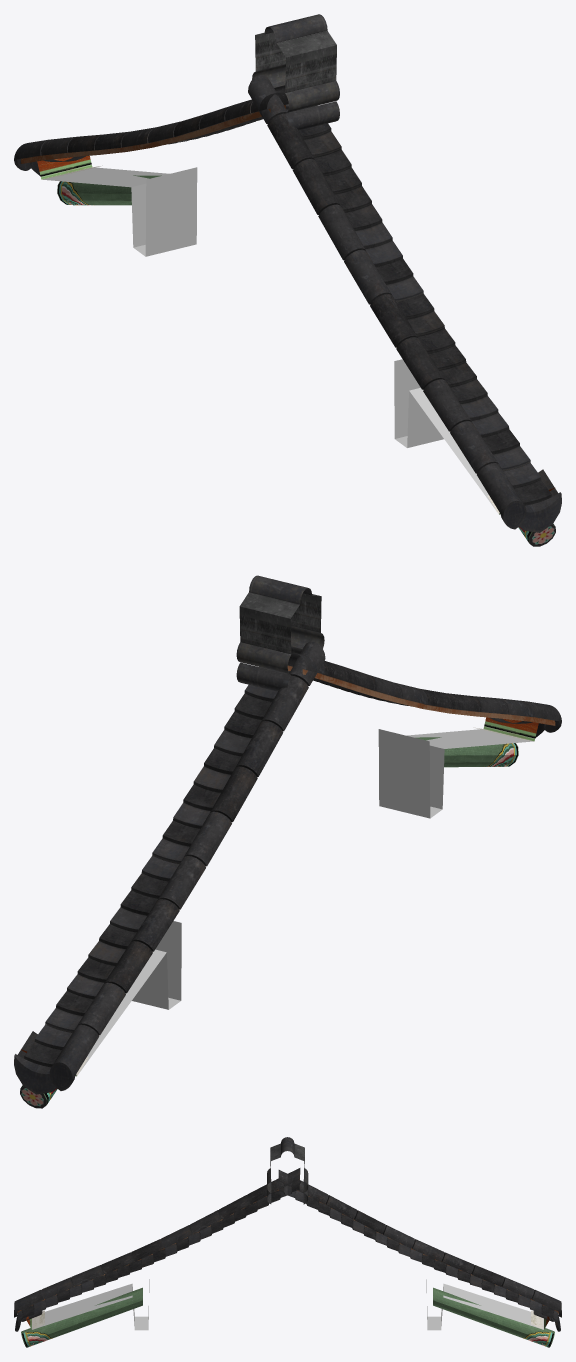
The model's file is SM_Giwa02B_a10.fbx.
3 renders of one model, top to bottom at view 1: azimuth 30°, elevation 25°; view 2: azimuth 150°, elevation 25°; view 3: azimuth 270°, elevation 25°, orthographic. The views are drawn at different scales.
Parts seen in each view (by area): view 1: SM_Giwa02B_a10; view 2: SM_Giwa02B_a10; view 3: SM_Giwa02B_a10.
Part boxes in pixels (box(x1,y1,x2,y2)): SM_Giwa02B_a10: box(14, 14, 561, 546); SM_Giwa02B_a10: box(14, 575, 561, 1108); SM_Giwa02B_a10: box(14, 1137, 561, 1347).
Size of the model in its own units: 37.69 by 510 by 205.
